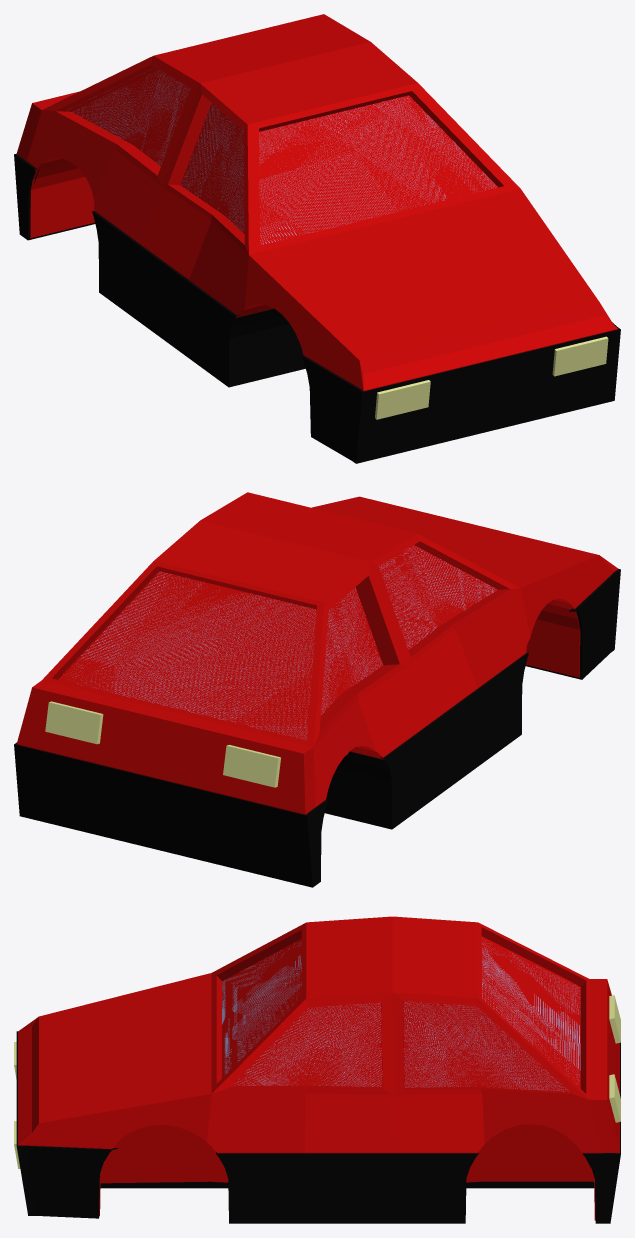
Rendered from car2.fbx.
3 views of the same model, one above another, from view 1: azimuth 30°, elevation 25°; view 2: azimuth 150°, elevation 25°; view 3: azimuth 270°, elevation 25° (orthographic). The views are drawn at different scales.
Visible parts, largest first — view 1: CarBody, Bumper, Windows, Headlights; view 2: CarBody, Bumper, Windows, TailLights; view 3: CarBody, Bumper, Windows, TailLights.
Part boxes in pixels (<box>): CarBody: <box>16,14,618,391</box>; Bumper: <box>14,154,620,463</box>; Windows: <box>67,71,496,244</box>; Headlights: <box>375,336,608,419</box>; CarBody: <box>16,492,618,814</box>; Bumper: <box>14,569,620,887</box>; Windows: <box>73,545,494,739</box>; TailLights: <box>45,701,280,787</box>; CarBody: <box>18,916,619,1220</box>; Bumper: <box>16,1031,620,1223</box>; Windows: <box>222,940,580,1091</box>; TailLights: <box>609,995,620,1122</box>.
Bounding box in the file's own units: 473 × 345 × 931.
